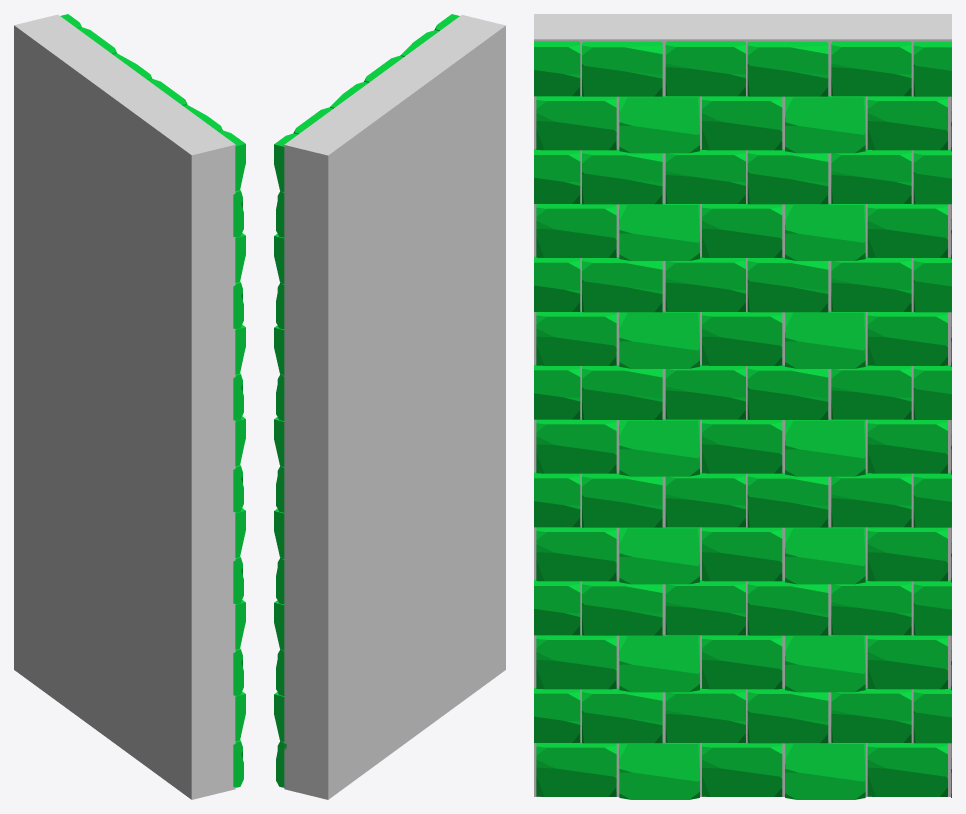
The model's file is Wall.glb.
3 renders of one model, left to right at view 1: azimuth 30°, elevation 25°; view 2: azimuth 150°, elevation 25°; view 3: azimuth 270°, elevation 25°, orthographic. The views are drawn at different scales.
Visible parts, largest first — view 1: Base.004; view 2: Base.004; view 3: Base.004.
Part boxes in pixels (x1,y1,x2,y2): Base.004: (14, 14, 245, 799); Base.004: (274, 14, 505, 799); Base.004: (534, 14, 951, 799).
Bounding box in the file's own units: 0.7039 × 8 × 4.
